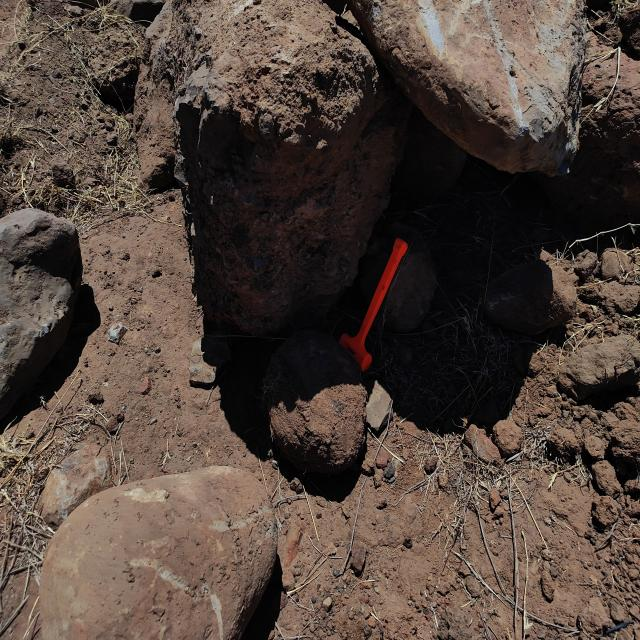Orange_hammer: (338, 236, 408, 372)
